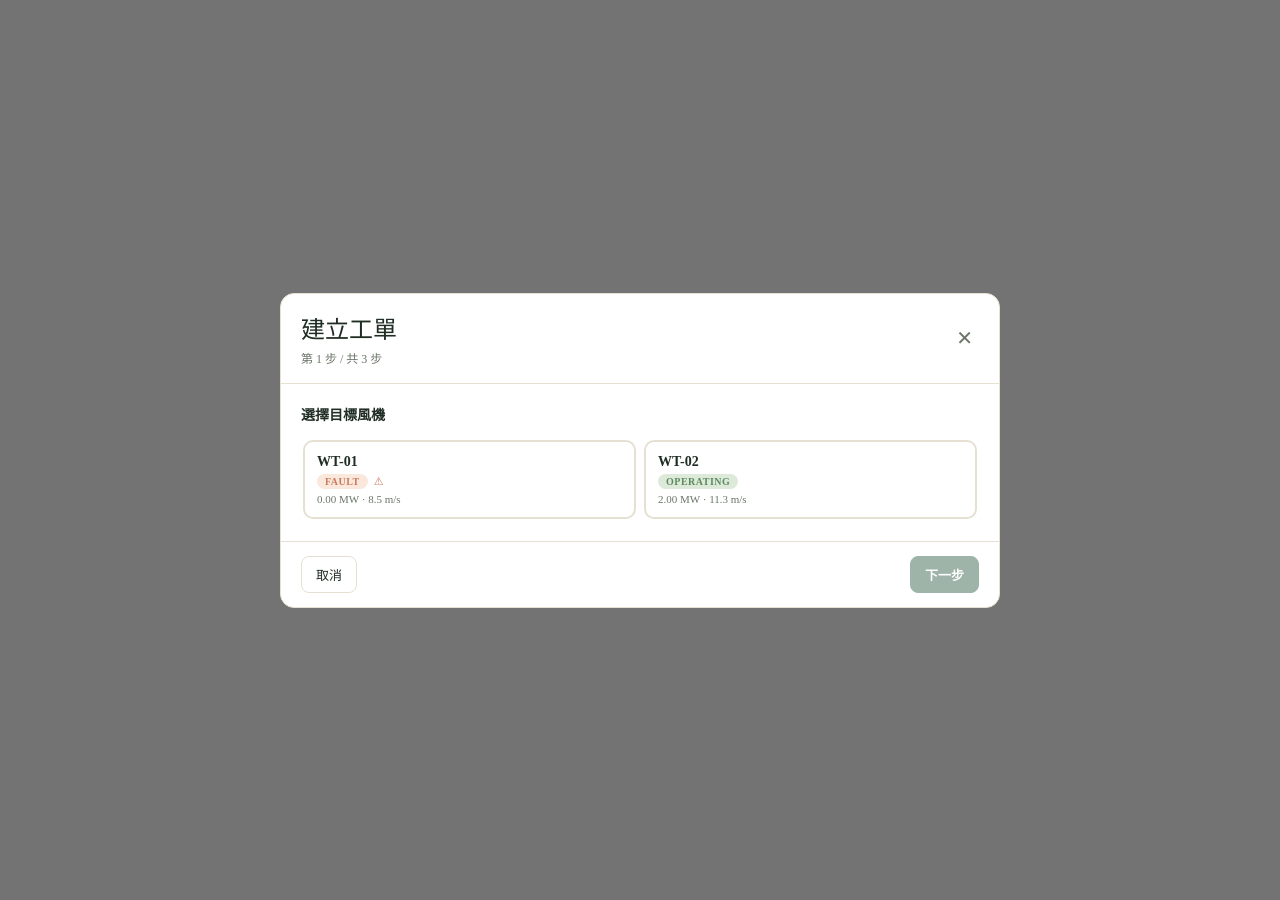
CreateWorkOrderWizard — Step 2 工單細節 › Next 進到 Step 2 顯示細節欄位與 step indicator 更新
The image size is (1280, 900).
Step 1. Click the button "WT-01 FAULT ⚠ 0.00 MW · 8.5 m/s" → (337, 461), box [303, 440, 636, 518]
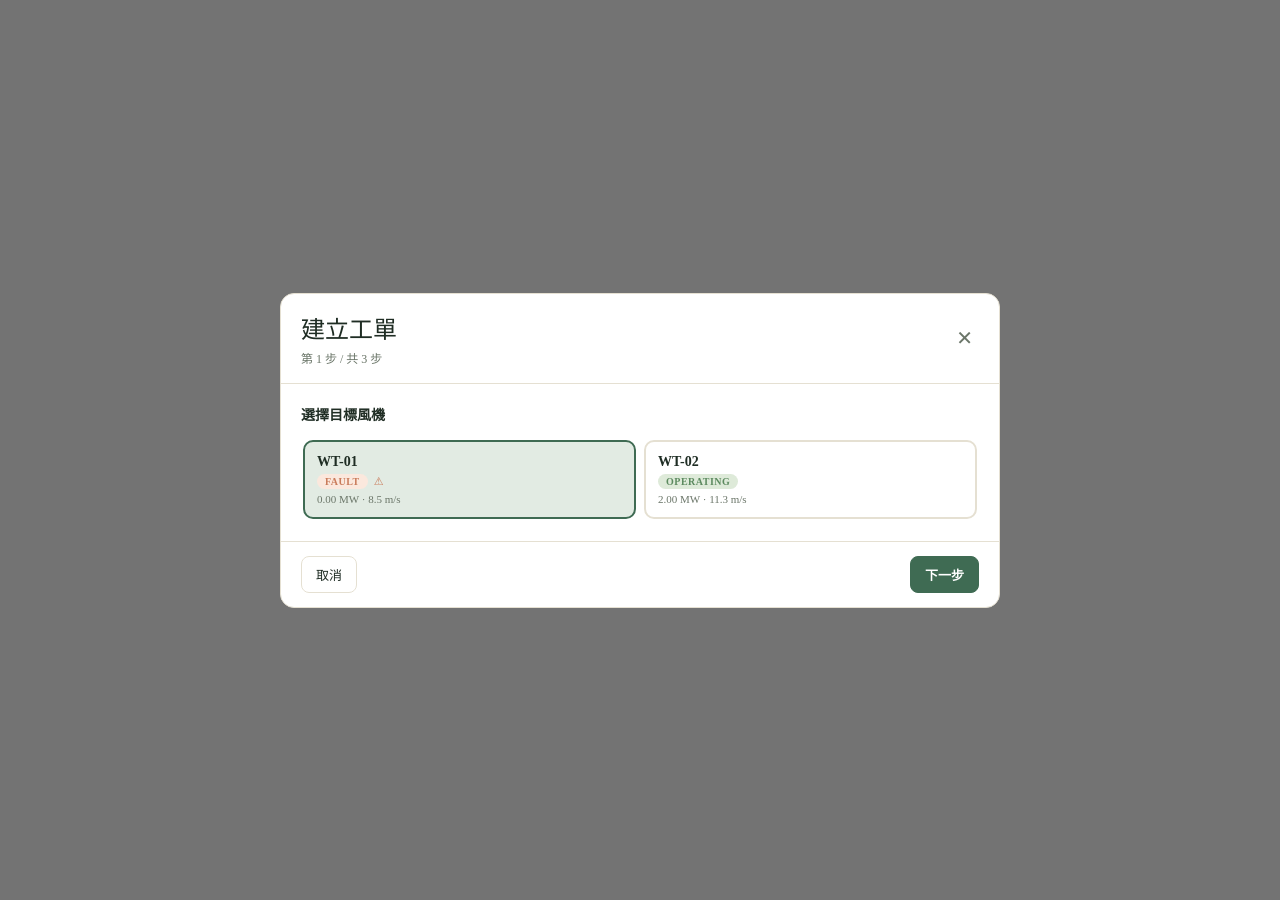
Step 2. Click the button "下一步" → (944, 574), box [910, 556, 979, 592]
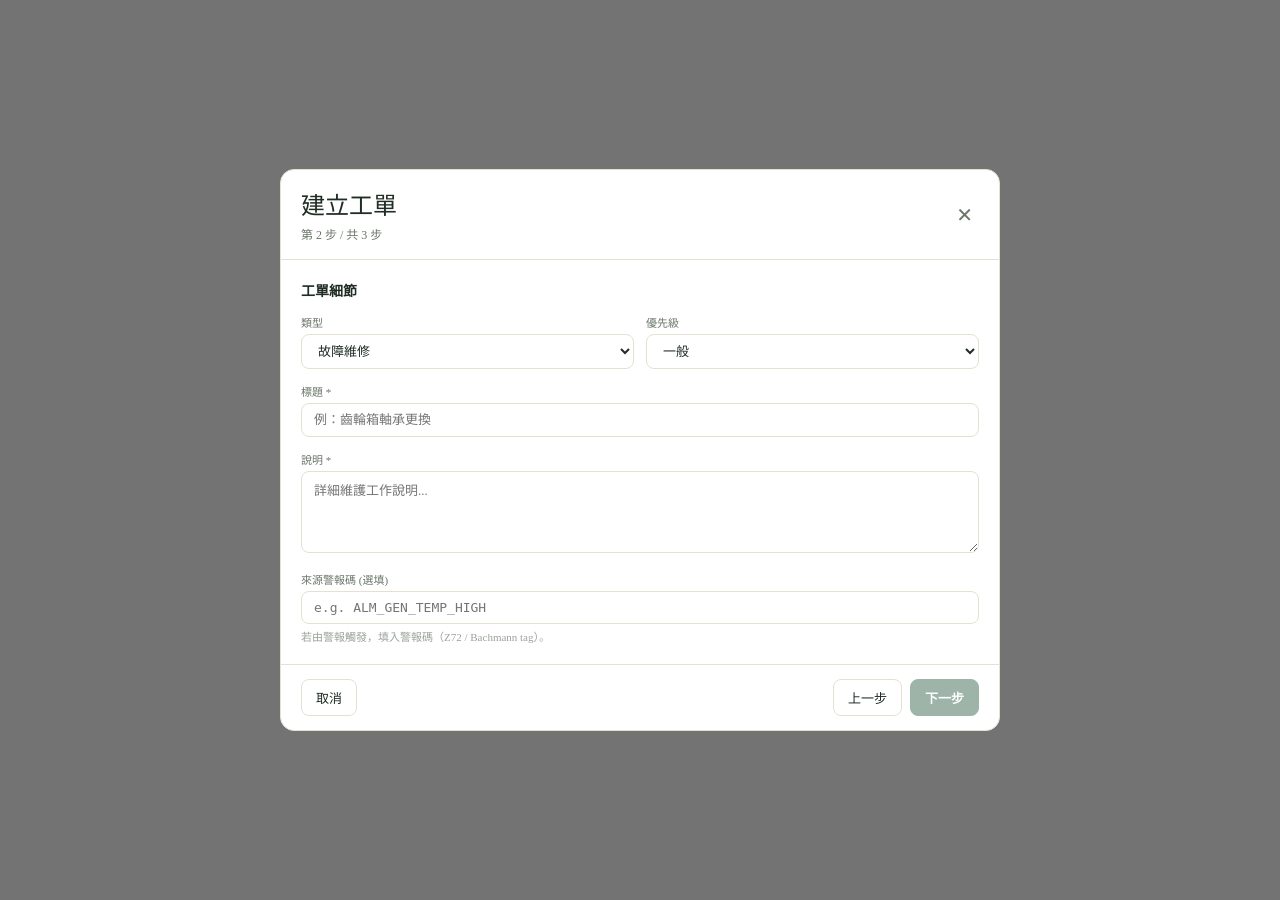
Now the text "第 2 步 / 共 3 步" is shown, box [301, 228, 382, 242]
Now the dropdown named "工單類型" is shown, box [301, 334, 634, 369]
Now the dropdown labelled "優先級" is shown, box [646, 334, 979, 369]
